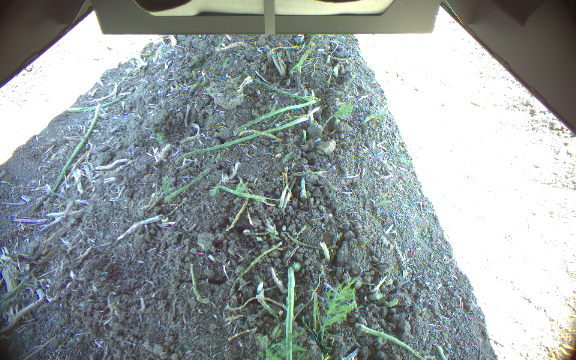aspa: (294, 42, 315, 76)
